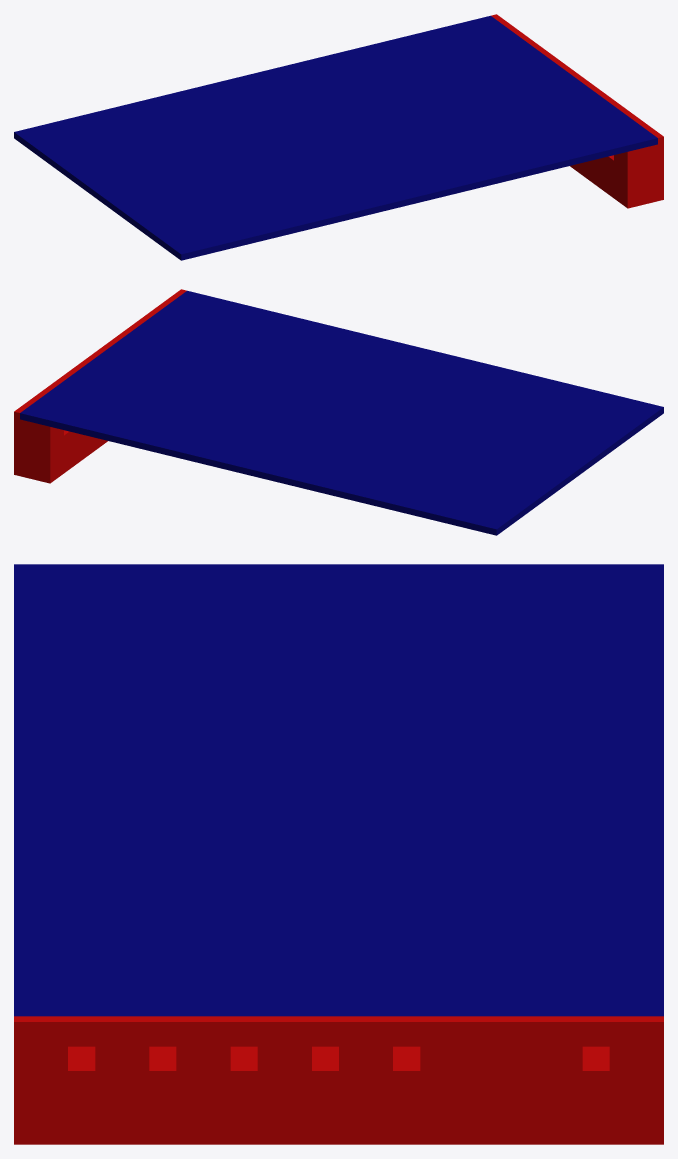
File: pavimento_2nd.gltf
The picture shows the model from 3 angles, top to bottom: view 1: azimuth 30°, elevation 25°; view 2: azimuth 150°, elevation 25°; view 3: azimuth 270°, elevation 25°; orthographic projection. The views are drawn at different scales.
Parts seen in each view (by area): view 1: Layer.1; view 2: Layer.1; view 3: Layer.1.
Part boxes in pixels (x1,y1,x2,y2): Layer.1: [14, 14, 663, 260]; Layer.1: [14, 289, 663, 535]; Layer.1: [14, 564, 663, 1144].
Size of the model in its own units: 80 by 10 by 48.
